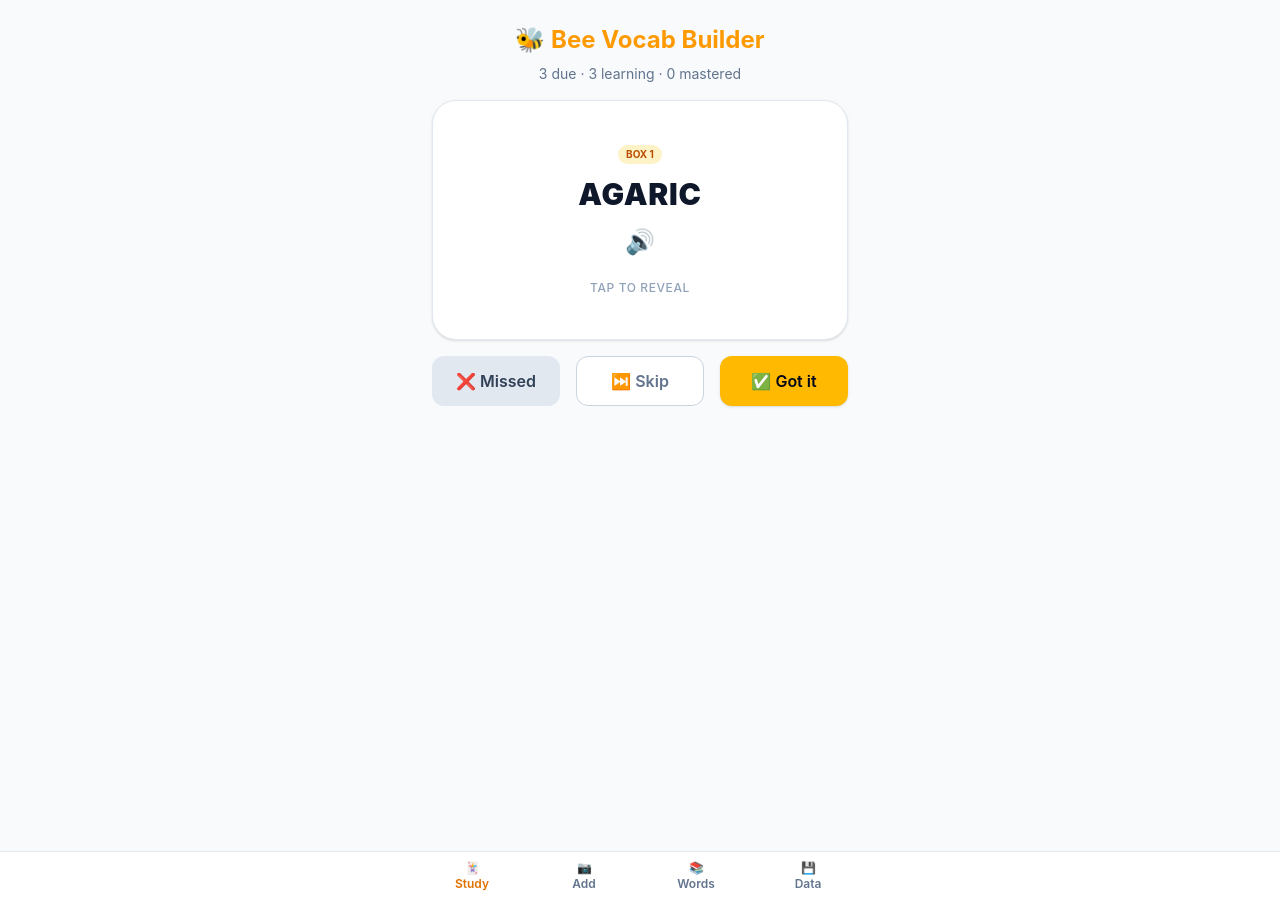
Test case: offers to fix missing definitions and reports success/failure counts
This screenshot has width=1280, height=900.
Click the button "📚 Words" at (696, 876), box x1=640 y1=852 x2=752 y2=899
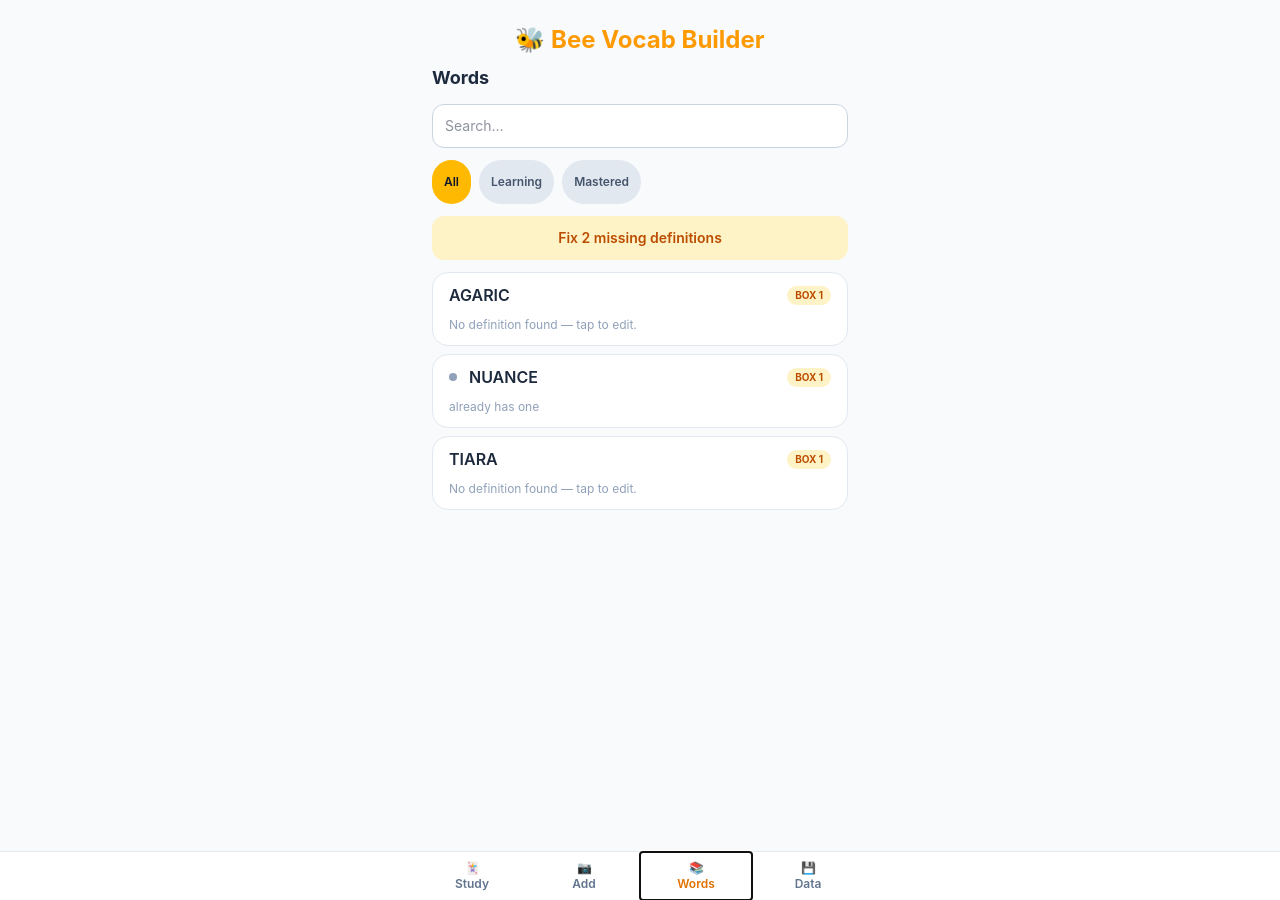
Click the button "Fix 2 missing definitions" at (640, 238), box x1=432 y1=216 x2=848 y2=260
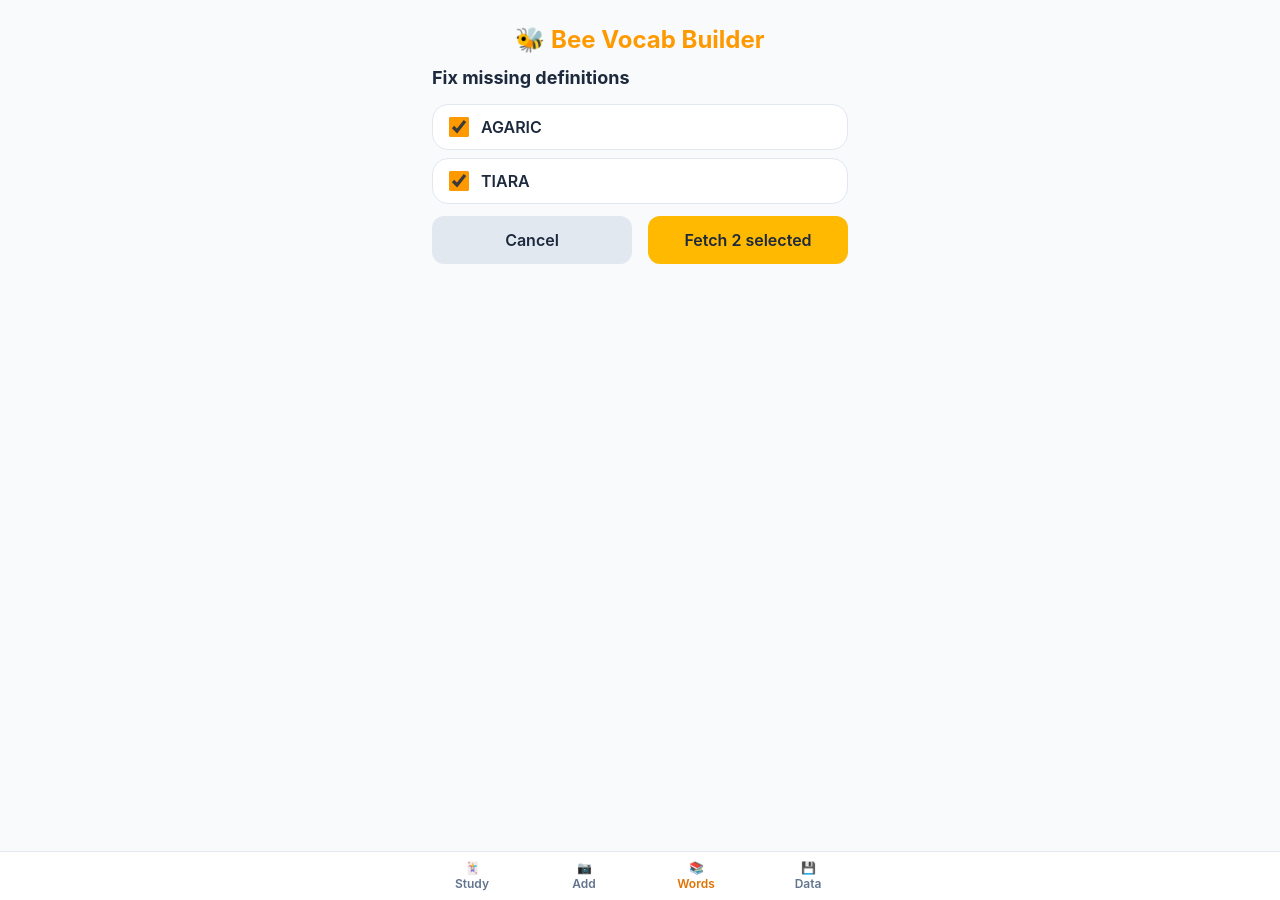
Click the button "Fetch 2 selected" at (748, 240), box x1=648 y1=216 x2=848 y2=264
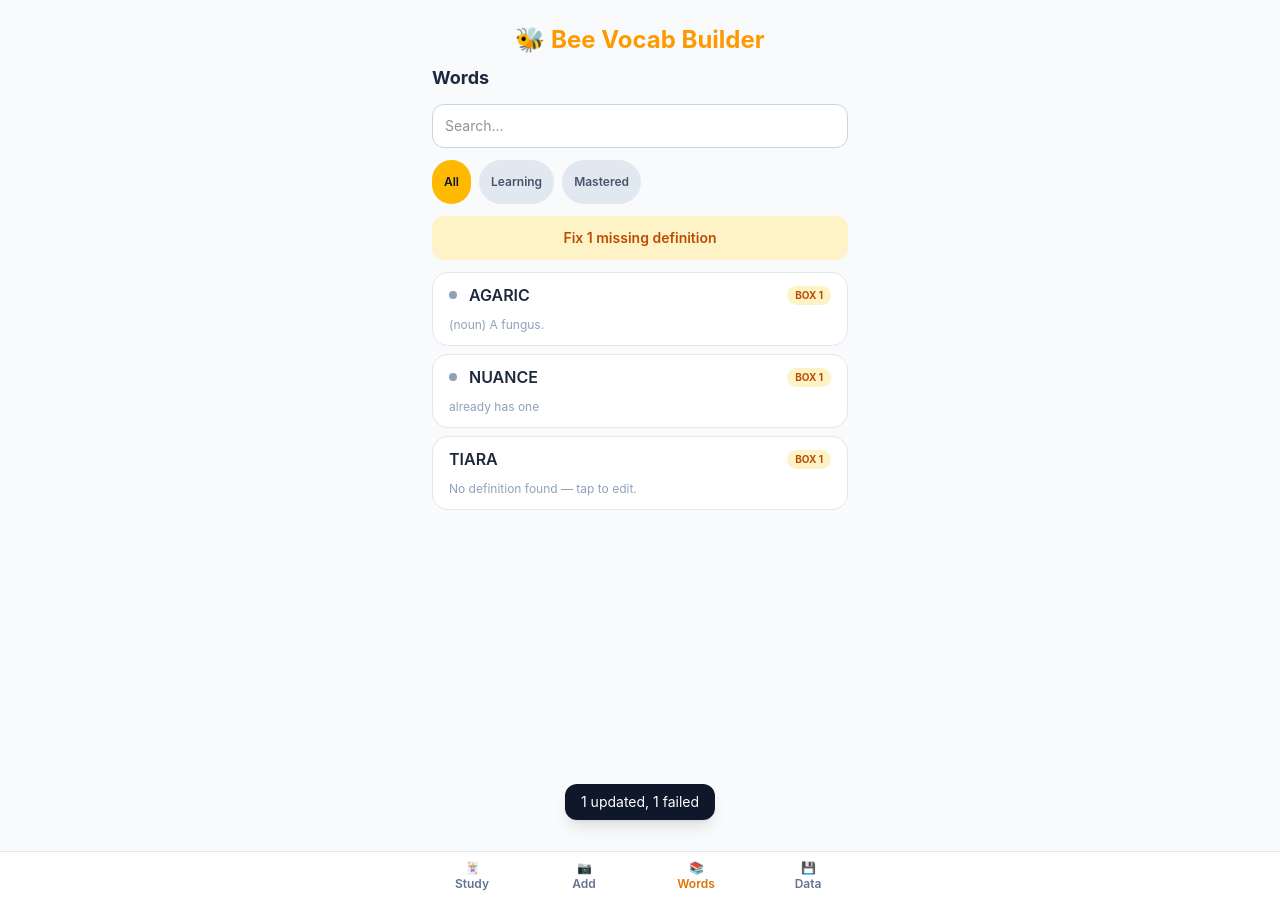
Result: the message reads "1 updated, 1 failed" at x1=581 y1=793 x2=699 y2=810
